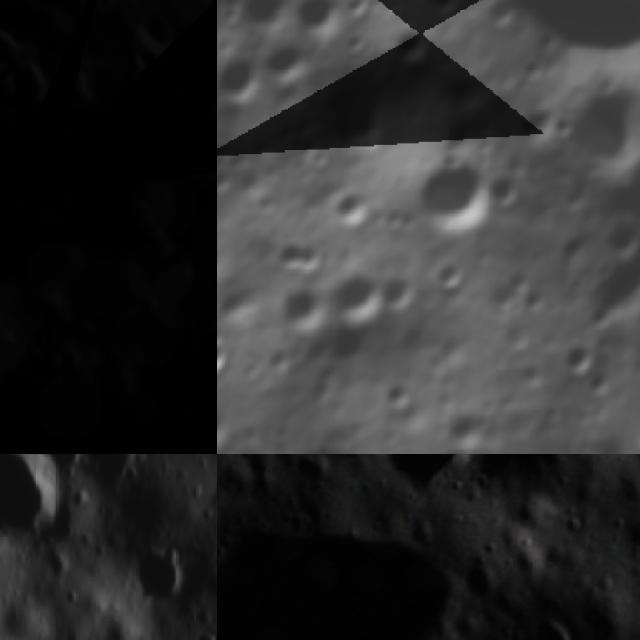crater: (217, 515, 575, 640), (401, 147, 513, 258), (315, 67, 418, 167), (0, 454, 82, 565), (122, 534, 205, 622), (66, 45, 148, 127), (148, 6, 217, 89), (323, 262, 399, 336), (268, 275, 340, 347), (380, 454, 480, 504), (456, 454, 597, 486), (0, 51, 61, 123), (256, 34, 320, 97), (37, 330, 99, 392), (373, 264, 429, 320), (476, 165, 532, 220), (217, 51, 265, 113), (556, 332, 608, 385), (384, 22, 435, 74), (288, 0, 350, 42), (604, 387, 640, 454), (429, 253, 476, 300), (289, 457, 336, 492), (217, 329, 242, 390), (546, 109, 586, 147), (466, 565, 502, 603), (515, 53, 552, 89), (533, 614, 584, 640), (252, 188, 286, 220), (430, 438, 485, 454), (198, 563, 217, 609), (217, 121, 232, 172), (556, 454, 594, 469), (626, 519, 640, 557), (190, 622, 217, 640)
